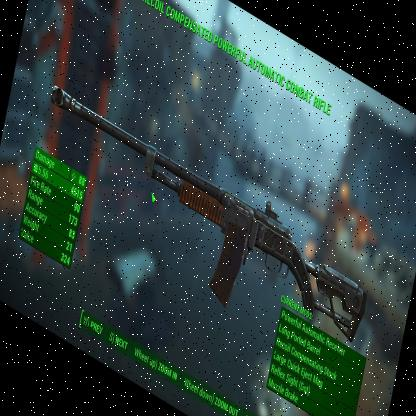rifle: (27, 61, 371, 375)
